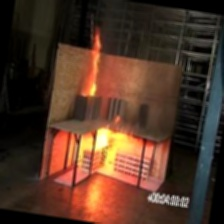fire: (71, 24, 127, 112), (86, 117, 135, 173)
